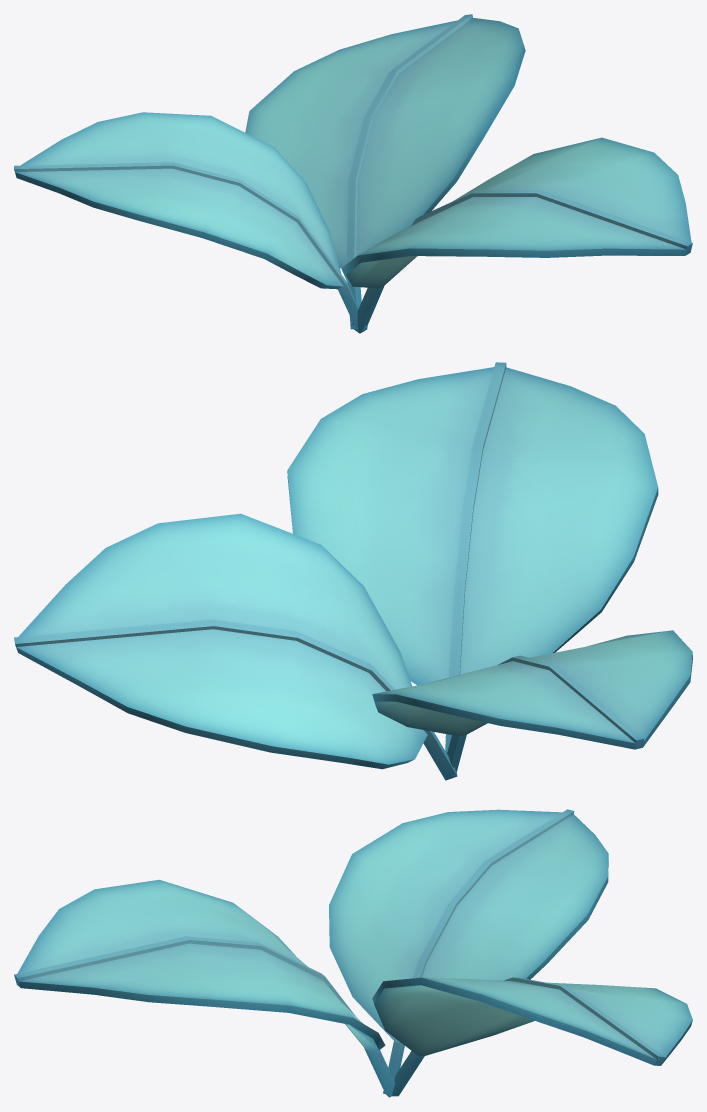
The model's file is plant3_blue.fbx.
3 renders of one model, top to bottom at view 1: azimuth 30°, elevation 25°; view 2: azimuth 150°, elevation 25°; view 3: azimuth 270°, elevation 25°, orthographic. The views are drawn at different scales.
Parts seen in each view (by area): view 1: pPlane312, pPlane314, pPlane313; view 2: pPlane313, pPlane312, pPlane314; view 3: pPlane314, pPlane313, pPlane312.
Boxes of the visible parts, bbox=[...] form: pPlane312: bbox=[245, 14, 525, 329]; pPlane314: bbox=[14, 112, 367, 331]; pPlane313: bbox=[341, 137, 692, 333]; pPlane313: bbox=[287, 362, 658, 775]; pPlane312: bbox=[14, 513, 457, 780]; pPlane314: bbox=[372, 630, 692, 771]; pPlane314: bbox=[329, 809, 608, 1095]; pPlane313: bbox=[14, 879, 395, 1097]; pPlane312: bbox=[372, 977, 692, 1096].
Bounding box in the file's own units: 1.45 × 0.562 × 1.7.
